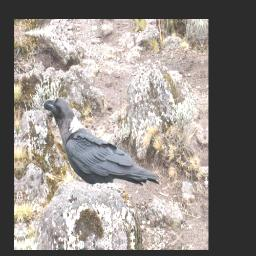Crow: (42, 90, 162, 196)
